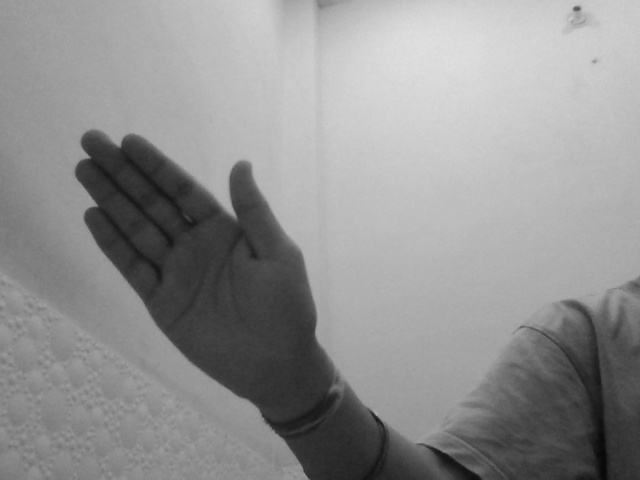Hello: (73, 120, 321, 413)
